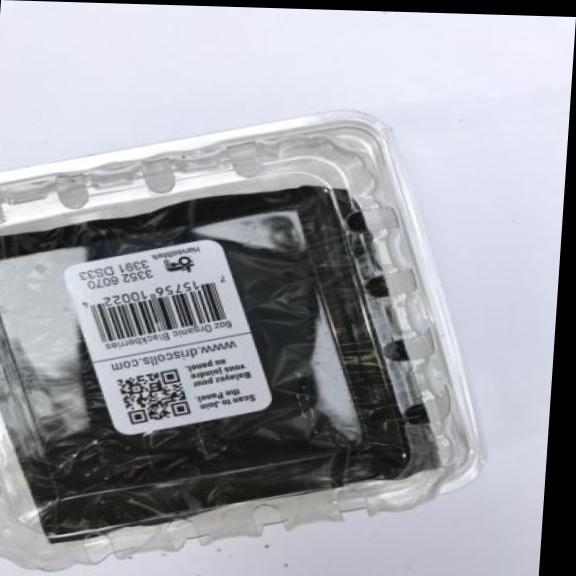Plastik: (0, 96, 522, 576)
